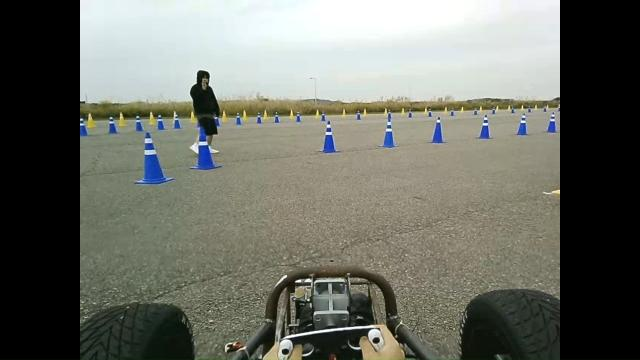blue cone: (134, 132, 174, 184), (190, 126, 222, 170), (318, 120, 340, 153), (378, 121, 398, 148), (428, 116, 447, 144), (477, 114, 492, 138), (516, 113, 528, 135), (546, 112, 557, 132)
